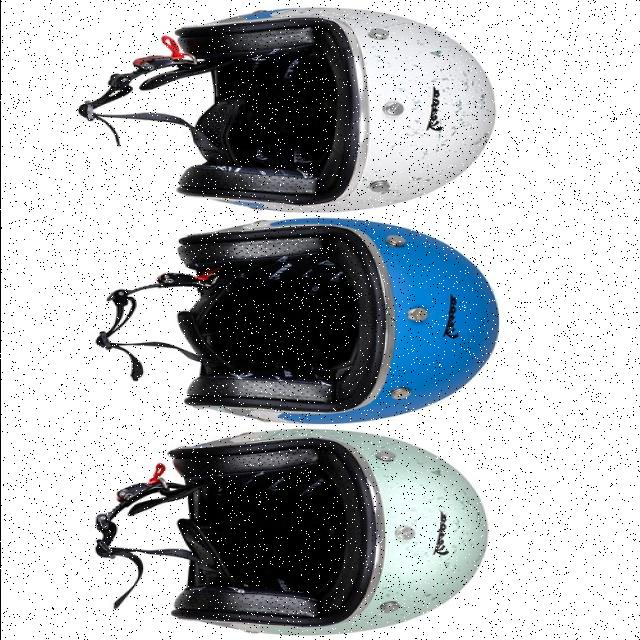Helmet: (83, 0, 495, 215), (96, 426, 489, 640), (174, 217, 498, 426)
